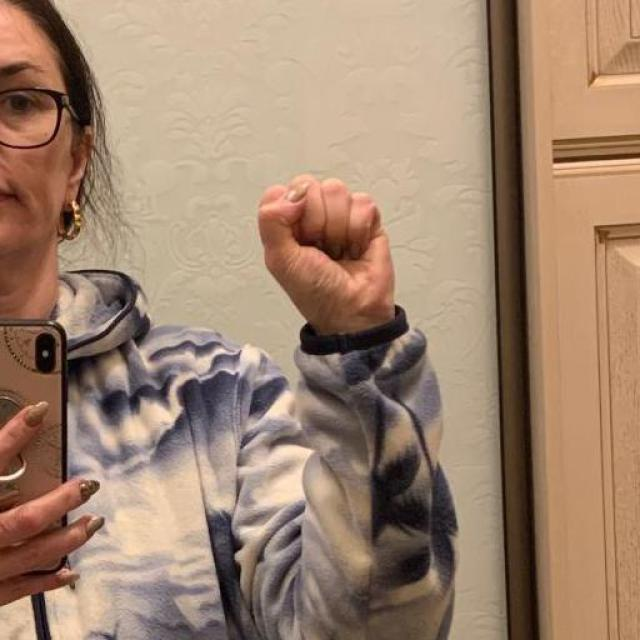hand: (256, 172, 396, 336), (0, 398, 104, 618)
